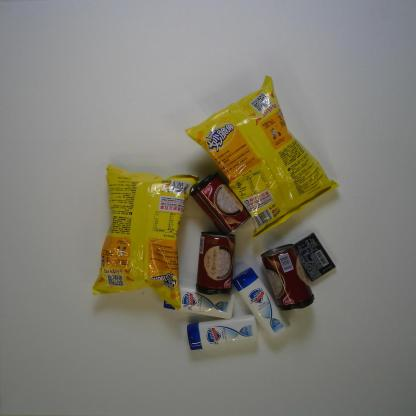Canned Food: (189, 171, 252, 236), (260, 242, 316, 312), (195, 230, 238, 296)
Gum: (294, 232, 336, 283)
Personal Hygiene: (232, 266, 293, 340), (186, 313, 259, 351), (162, 285, 235, 320)
Puffed Food: (184, 74, 342, 240), (91, 163, 201, 312)
